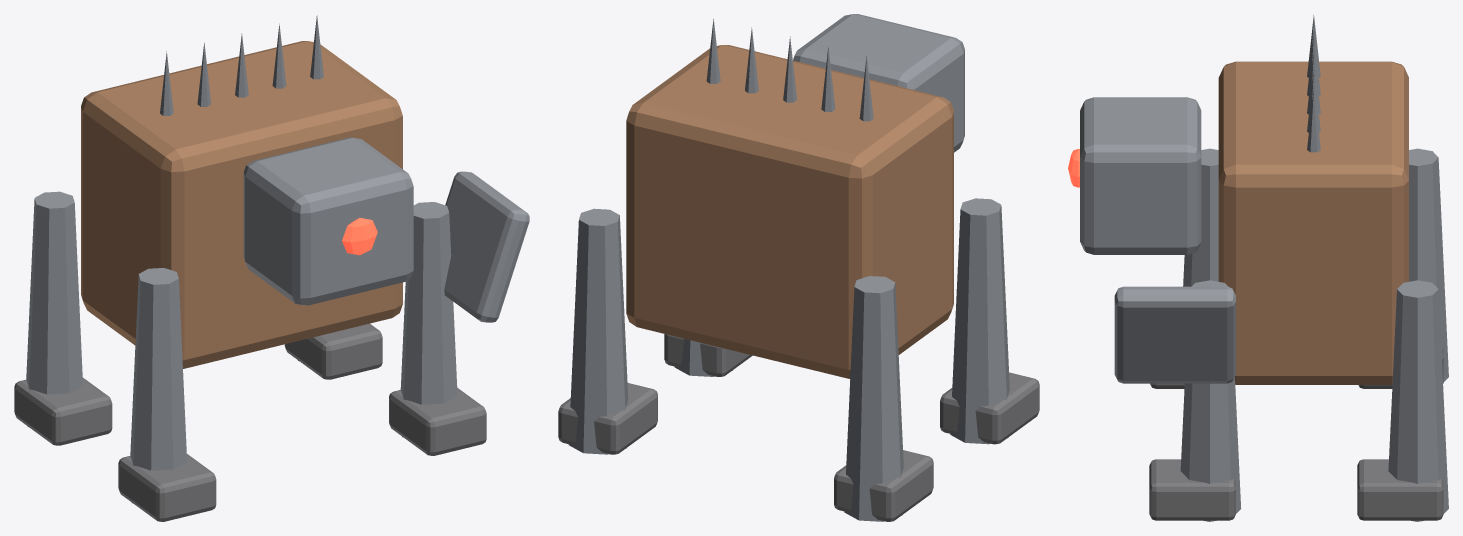
Rendered from boss_iron_abomination.glb.
3 renders of one model, left to right at view 1: azimuth 30°, elevation 25°; view 2: azimuth 150°, elevation 25°; view 3: azimuth 270°, elevation 25°, orthographic. The views are drawn at different scales.
Visible parts, largest first — view 1: boss_iron_core, boss_iron_head, boss_iron_leg_0, boss_iron_leg_2, boss_iron_leg_1, boss_iron_saw, boss_iron_foot_2, boss_iron_foot_0, boss_iron_foot_1, boss_iron_foot_3, boss_iron_eye; view 2: boss_iron_core, boss_iron_leg_0, boss_iron_leg_3, boss_iron_leg_2, boss_iron_head, boss_iron_foot_2, boss_iron_foot_3, boss_iron_foot_0, boss_iron_foot_1, boss_iron_leg_1; view 3: boss_iron_core, boss_iron_head, boss_iron_saw, boss_iron_leg_3, boss_iron_leg_1, boss_iron_leg_2, boss_iron_foot_3, boss_iron_foot_1, boss_iron_leg_0, boss_iron_spike_4.
Boxes of the visible parts, x1,y1,x2,y2 form: boss_iron_core: (81, 41, 402, 368); boss_iron_head: (243, 137, 413, 305); boss_iron_leg_0: (130, 268, 187, 503); boss_iron_leg_2: (26, 191, 82, 426); boss_iron_leg_1: (400, 202, 457, 437); boss_iron_saw: (444, 171, 529, 322); boss_iron_foot_2: (14, 377, 112, 445); boss_iron_foot_0: (118, 454, 216, 521); boss_iron_foot_1: (389, 388, 486, 455); boss_iron_foot_3: (284, 323, 382, 379); boss_iron_eye: (342, 218, 377, 255); boss_iron_core: (626, 45, 953, 378); boss_iron_leg_0: (950, 198, 1009, 444); boss_iron_leg_3: (568, 208, 628, 454); boss_iron_leg_2: (844, 276, 903, 521); boss_iron_head: (793, 14, 964, 152); boss_iron_foot_2: (834, 450, 933, 521); boss_iron_foot_3: (558, 383, 657, 454); boss_iron_foot_0: (940, 372, 1039, 444); boss_iron_foot_1: (664, 334, 752, 376); boss_iron_leg_1: (674, 338, 732, 376); boss_iron_core: (1218, 61, 1408, 384); boss_iron_head: (1080, 97, 1201, 254); boss_iron_saw: (1114, 286, 1235, 383); boss_iron_leg_3: (1388, 280, 1448, 521); boss_iron_leg_1: (1180, 280, 1241, 521); boss_iron_leg_2: (1409, 148, 1448, 381); boss_iron_foot_3: (1357, 459, 1443, 520); boss_iron_foot_1: (1149, 459, 1235, 520); boss_iron_leg_0: (1183, 148, 1218, 286); boss_iron_spike_4: (1307, 88, 1320, 152).
Size of the model in its own units: 2.37 by 2.5 by 2.2.
